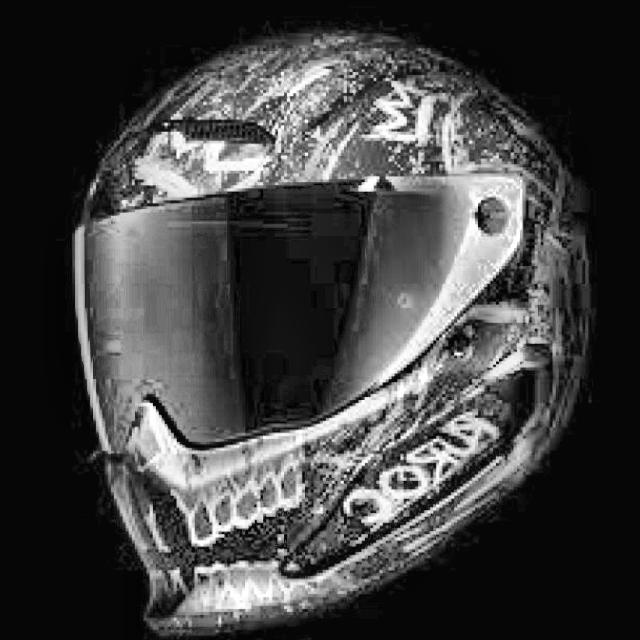Helmet: (63, 28, 576, 640)
